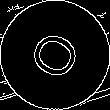O_SE: (23, 25, 87, 85)
